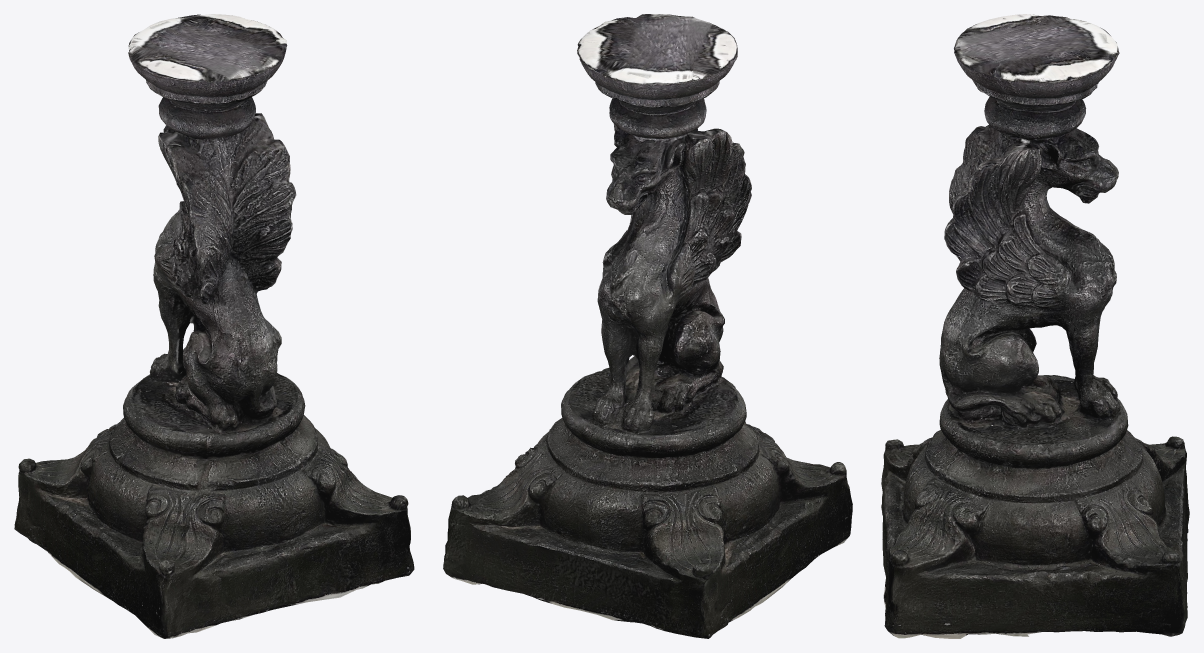
Rendered from dragon.glb.
3 renders of one model, left to right at view 1: azimuth 30°, elevation 25°; view 2: azimuth 150°, elevation 25°; view 3: azimuth 270°, elevation 25°, orthographic. The views are drawn at different scales.
Visible parts, largest first — view 1: Object_4; view 2: Object_4; view 3: Object_4.
Boxes of the visible parts, <box> form: Object_4: <box>14,14,414,638</box>; Object_4: <box>443,14,852,638</box>; Object_4: <box>881,14,1189,638</box>.
Bounding box in the file's own units: 0.4938 × 0.9153 × 0.4815.
Materials: 1 (1 with a texture image).
